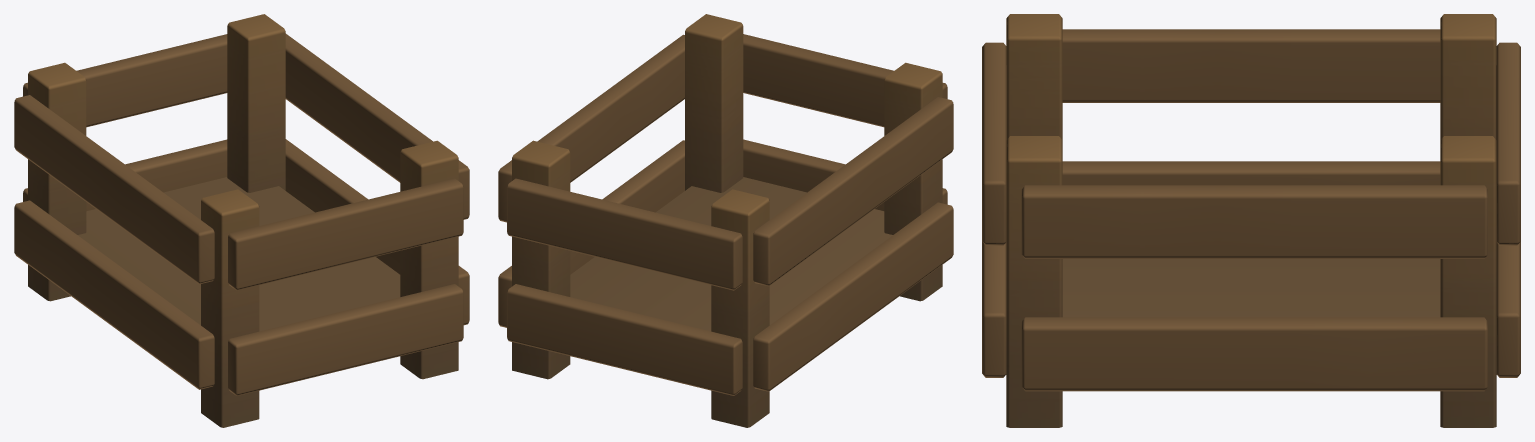
File: PlantCrate2.fbx
3 renders of one model, left to right at view 1: azimuth 30°, elevation 25°; view 2: azimuth 150°, elevation 25°; view 3: azimuth 270°, elevation 25°, orthographic. The views are drawn at different scales.
Parts seen in each view (by area): view 1: PlantCrate2; view 2: PlantCrate2; view 3: PlantCrate2.
Boxes of the visible parts, x1,y1,x2,y2 form: PlantCrate2: (14,14,469,427); PlantCrate2: (498,14,953,427); PlantCrate2: (982,14,1520,427).
Size of the model in its own units: 132 by 99.52 by 180.
